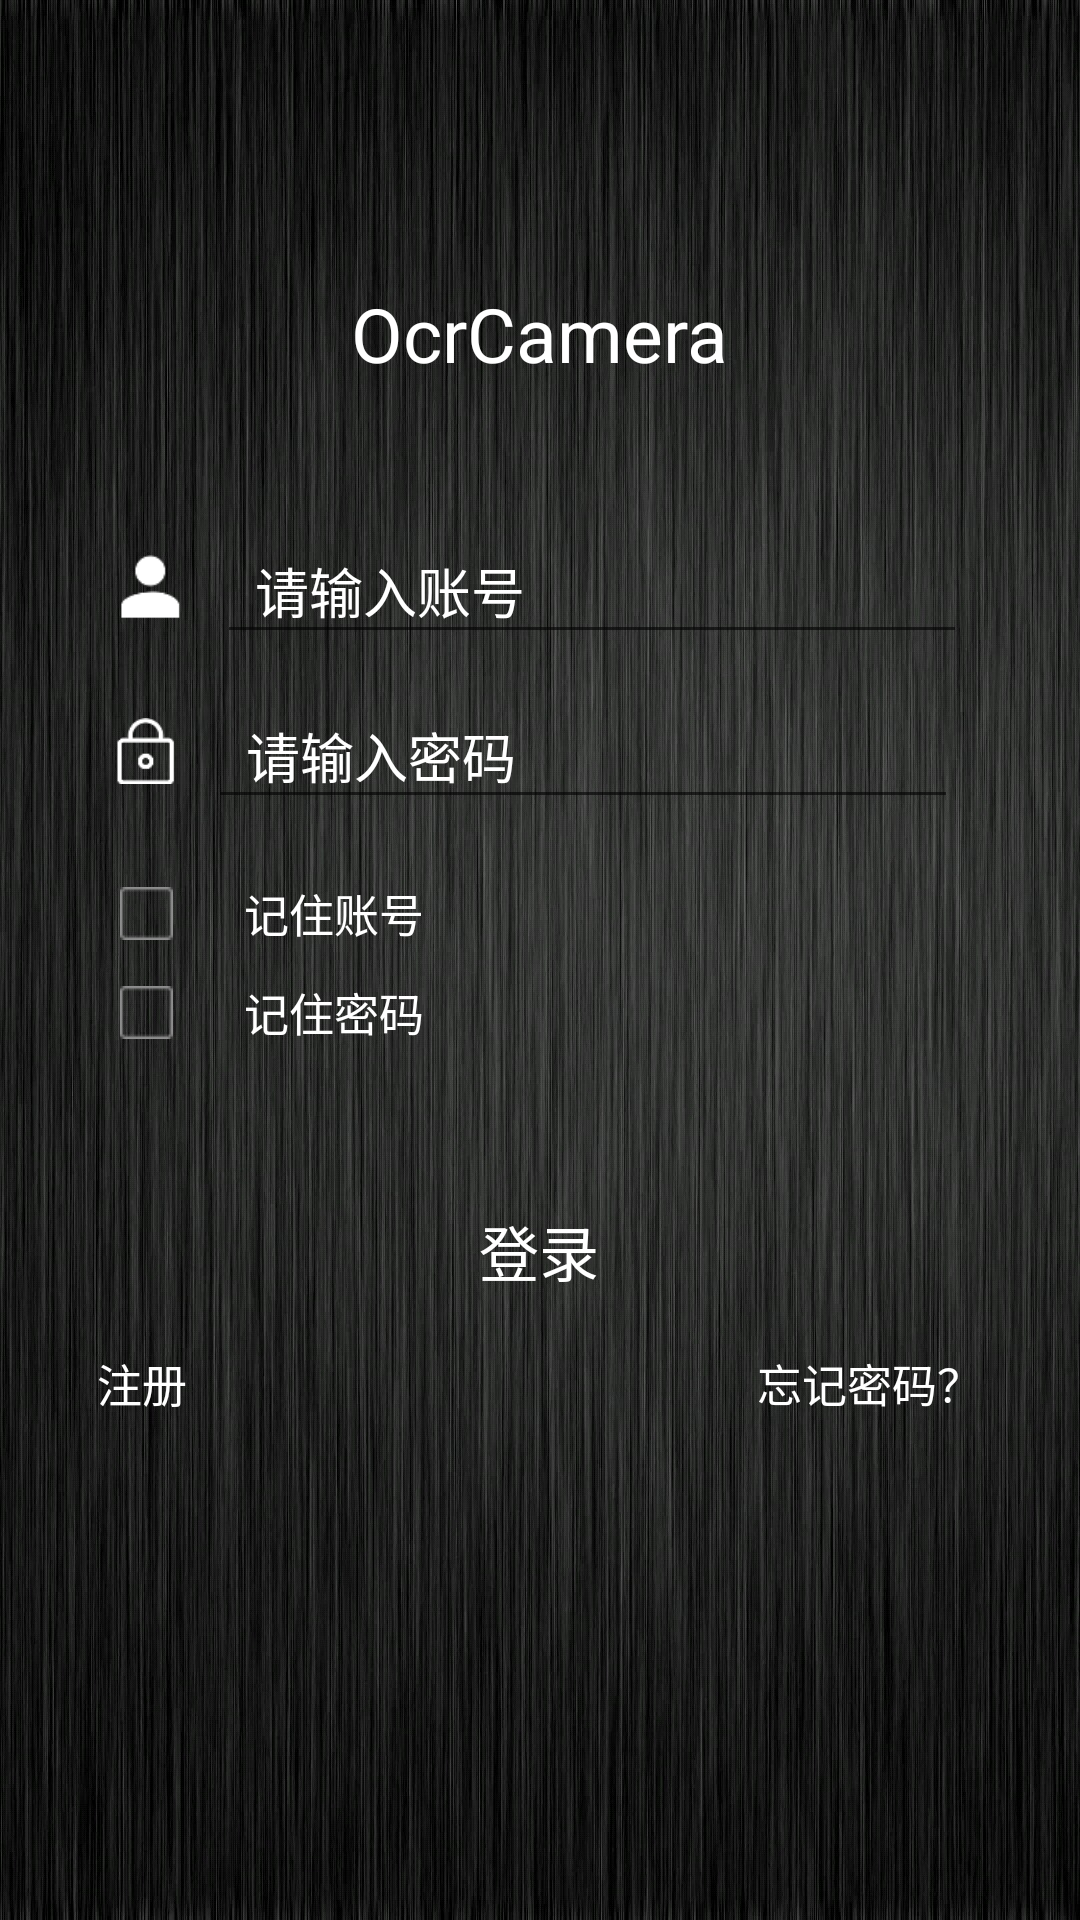

Named icons in this screenshot (1080 x 1920) and their bounding boxes, (x1, y1, x2, y2):
lock: (112, 718, 174, 784)
